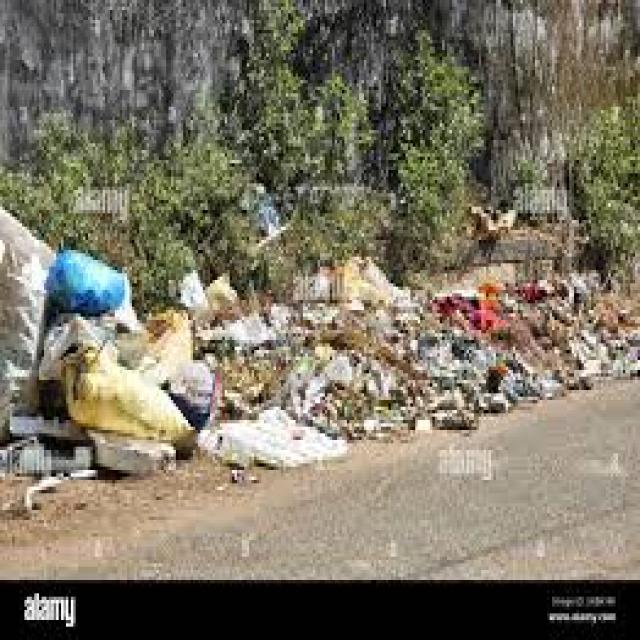garbage: (1, 207, 638, 482)
